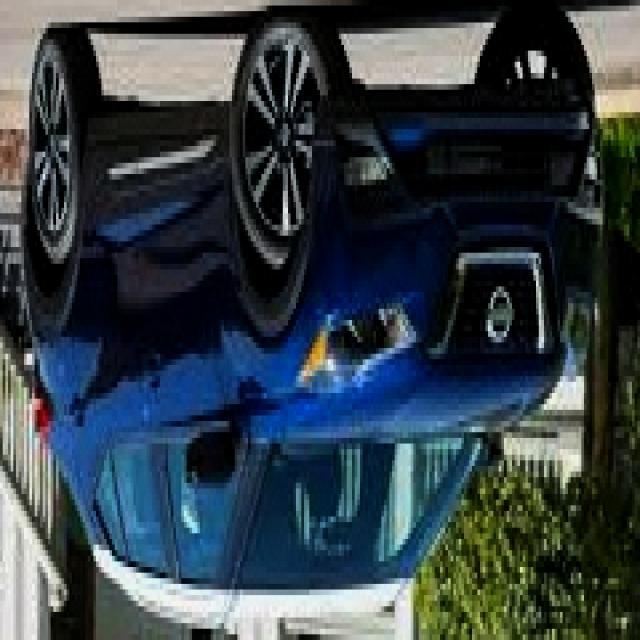blue: (21, 4, 600, 592)
